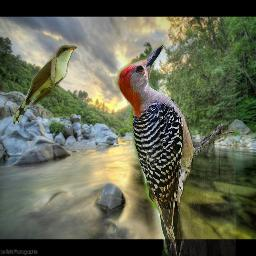Cuckoo: (13, 45, 77, 124)
Woodpecker: (110, 41, 236, 256)
